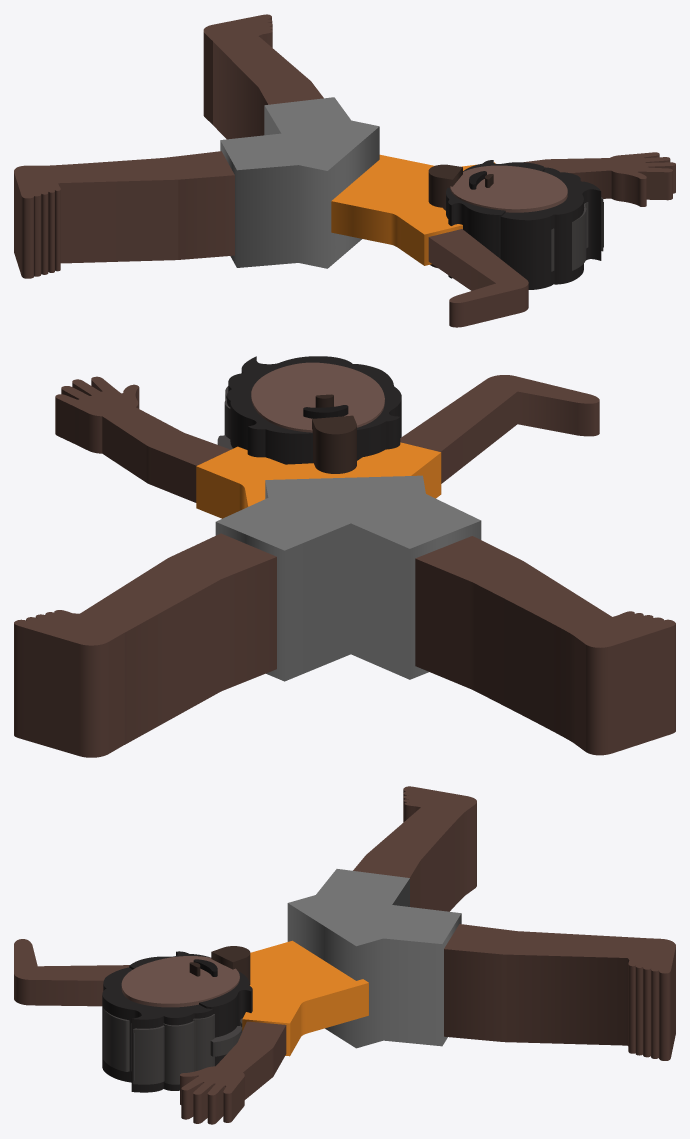
The model's file is emoji_u1f938_1f3ff.glb.
The picture shows the model from 3 angles, top to bottom: view 1: azimuth 30°, elevation 25°; view 2: azimuth 150°, elevation 25°; view 3: azimuth 270°, elevation 25°; orthographic projection. The views are drawn at different scales.
Visible parts, largest first — view 1: emoji_u1f938_1f3ff; view 2: emoji_u1f938_1f3ff; view 3: emoji_u1f938_1f3ff.
Boxes of the visible parts, left/top/right/bottom form: emoji_u1f938_1f3ff: left=14, top=14, right=675, bottom=327; emoji_u1f938_1f3ff: left=14, top=356, right=675, bottom=757; emoji_u1f938_1f3ff: left=14, top=786, right=675, bottom=1124.
Size of the model in its own units: 0.0331 by 0.0056 by 0.0329.
